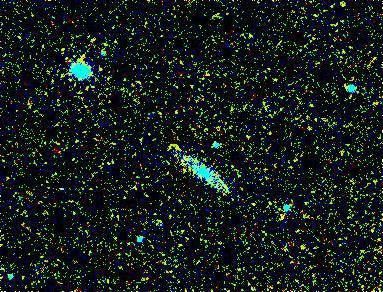star: (159, 132, 189, 162)
